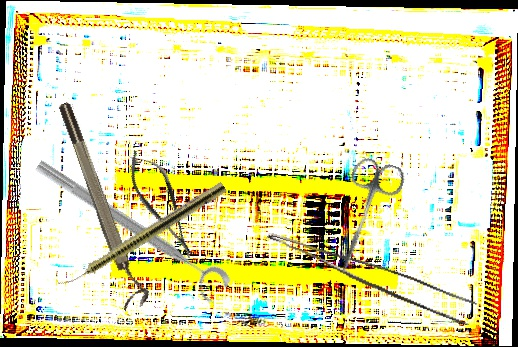Fixation Ring: (24, 154, 234, 308), (54, 97, 153, 312)
Handpiece: (56, 179, 228, 294)
Iris Scissors: (320, 153, 408, 283)
Micro Scissor: (117, 141, 207, 268)
Tissue Forceps: (259, 232, 480, 326)
